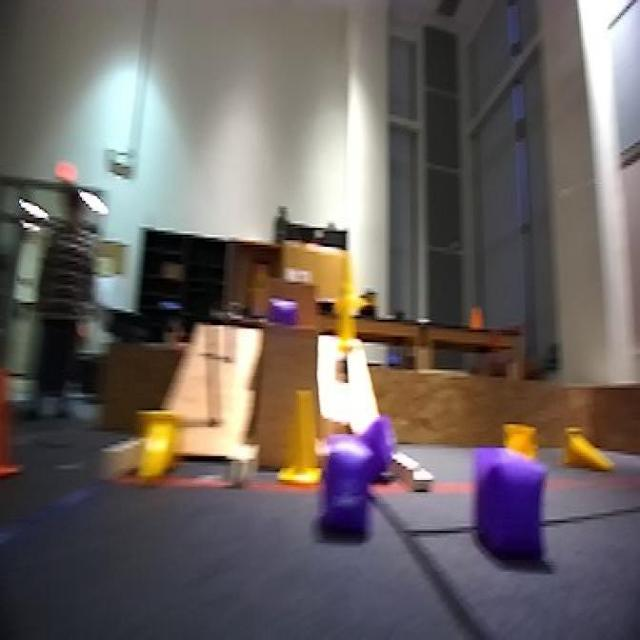frc_cone: (285, 383, 336, 490), (140, 408, 177, 488), (560, 428, 616, 478), (499, 416, 539, 478), (332, 293, 363, 361), (340, 250, 355, 308)
frc_cube: (469, 446, 554, 560), (308, 434, 370, 523), (346, 421, 389, 484), (268, 300, 299, 330)
